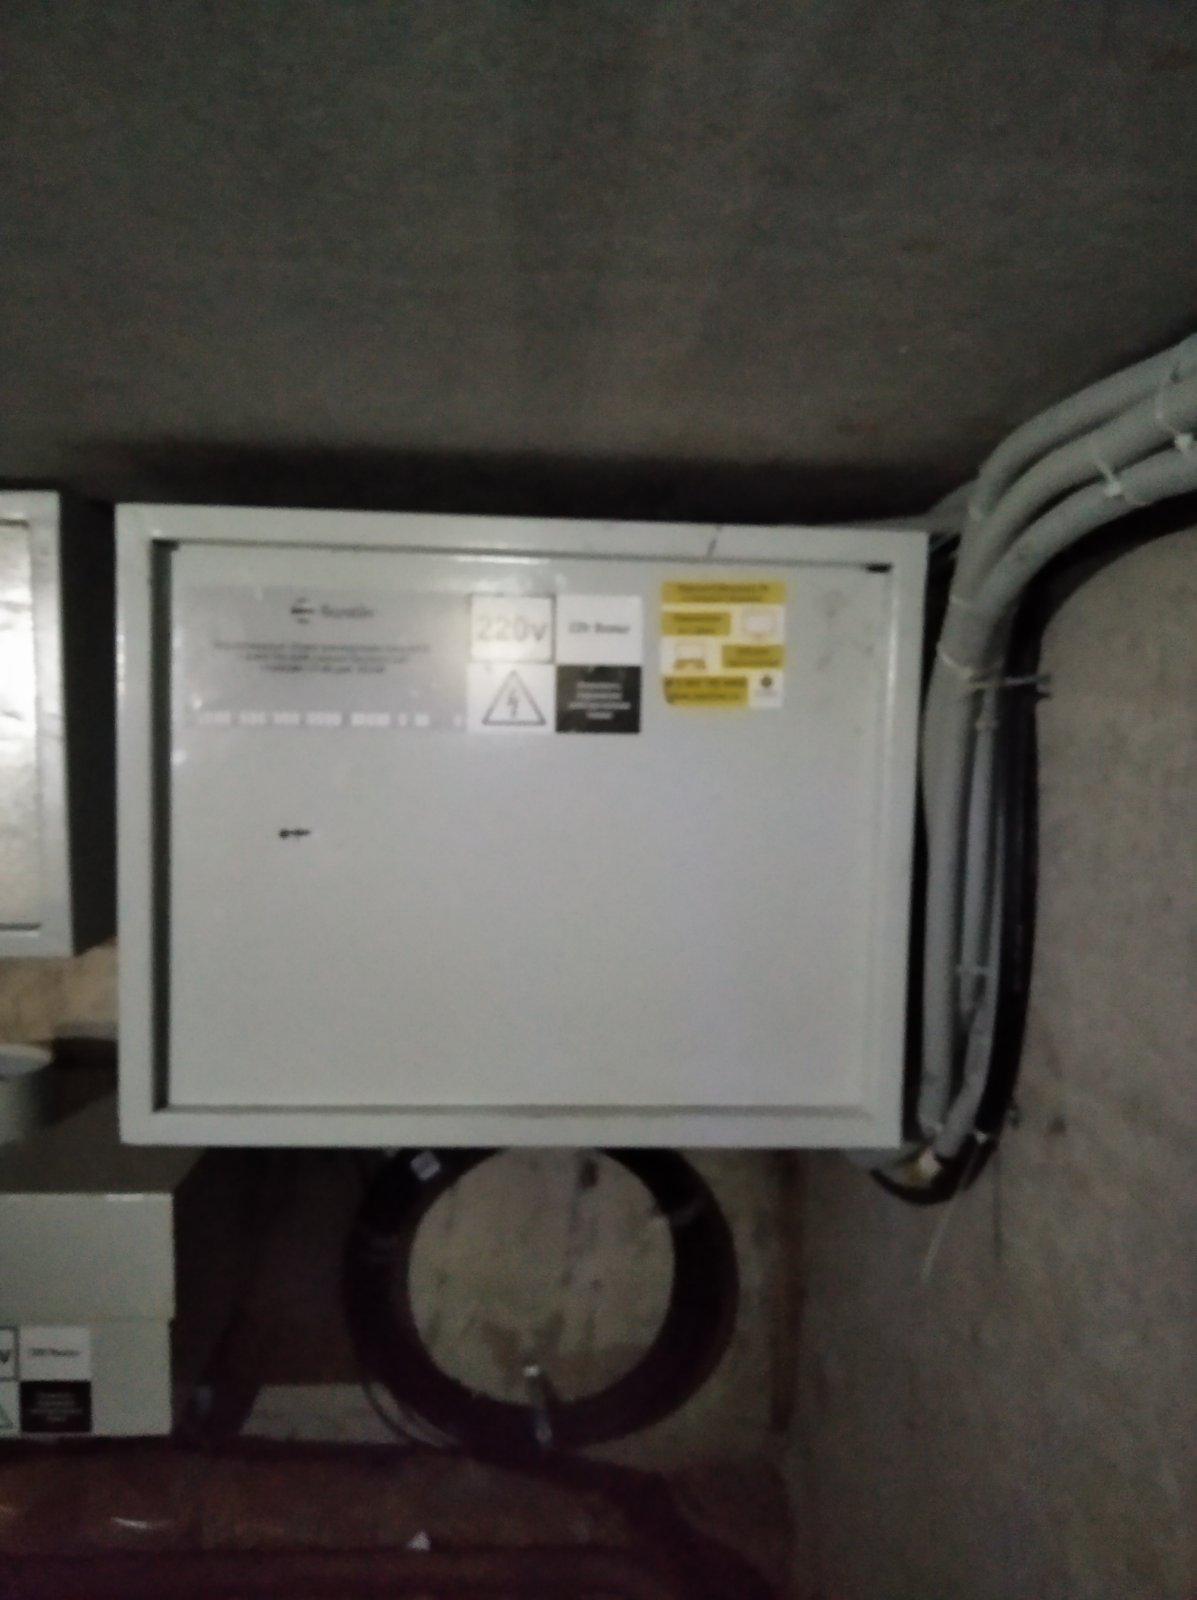shta-9m: (104, 486, 939, 1163)
